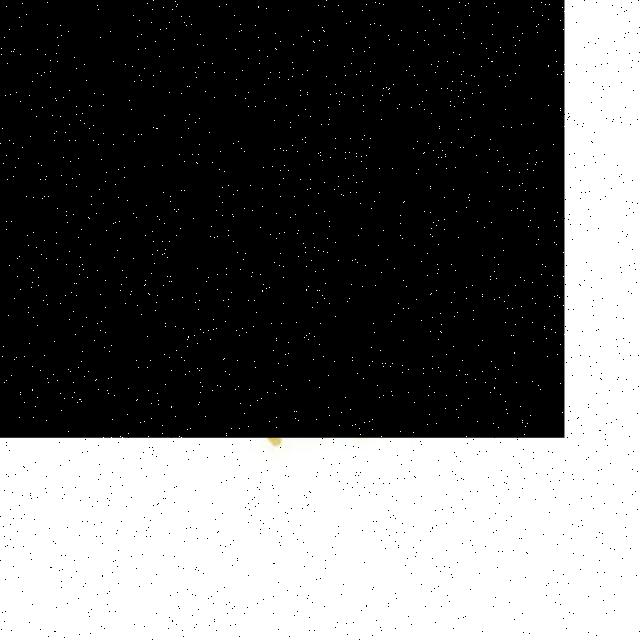Thukpa_Noodles: (0, 0, 563, 438)
